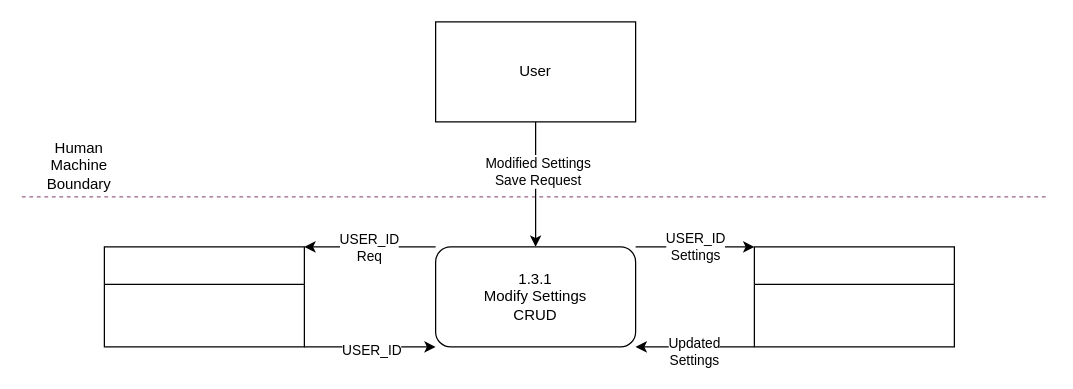
This 1073x389 diagram has some shape labels left out. Here are the shapes that lost their labels. From the top down, the centre of each, then its label:
the point at 203,296: D3 Session Variable
the point at 853,296: D4 User Settings
